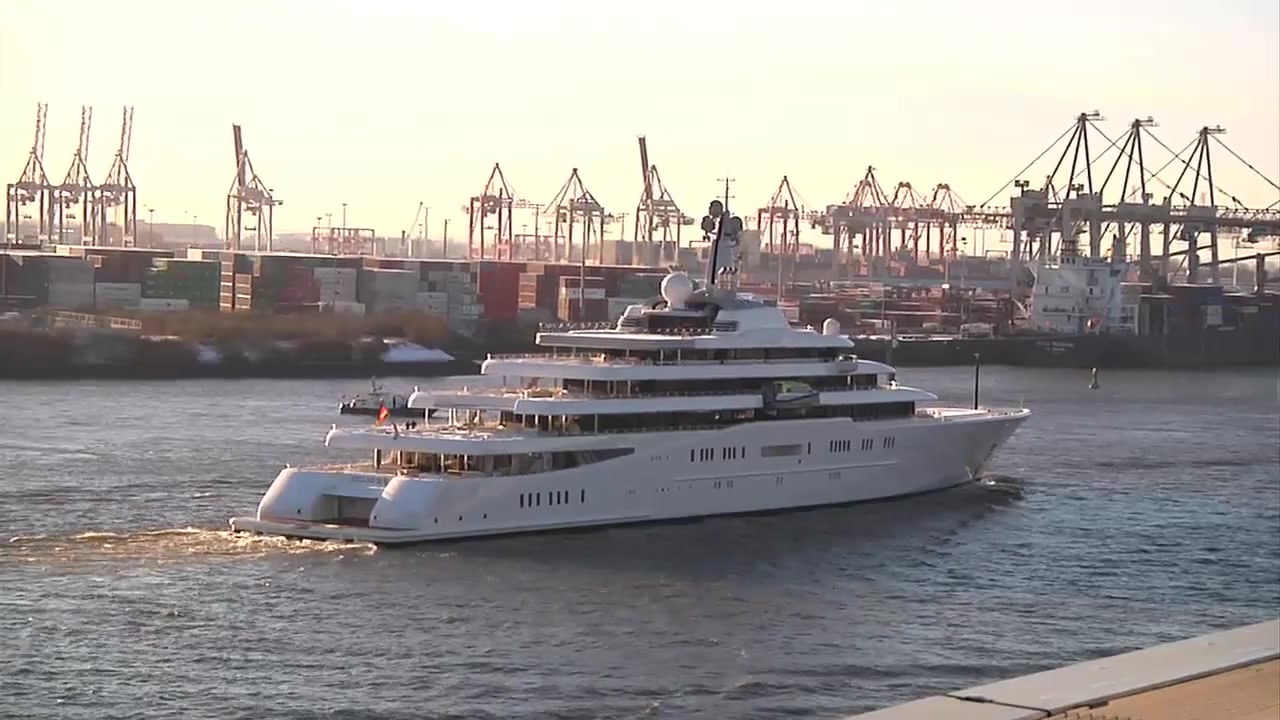boat: (232, 217, 1037, 559)
